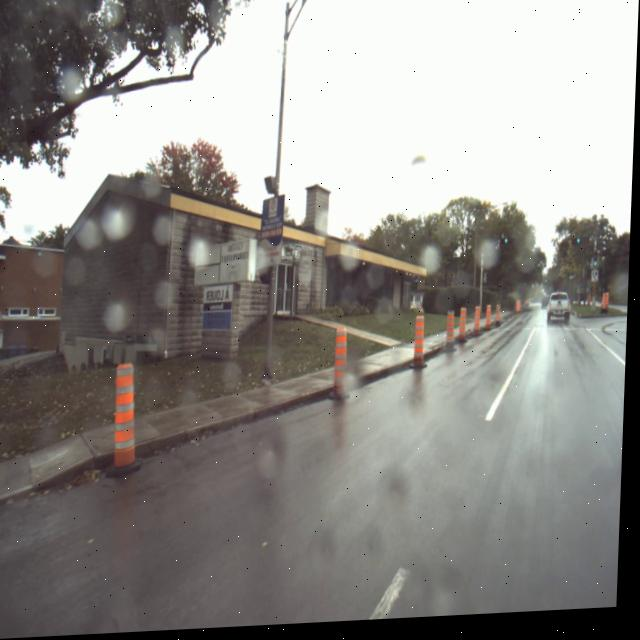car: (549, 298, 573, 331)
trafficLight-Green: (505, 242, 511, 250), (595, 266, 600, 275), (579, 244, 583, 250)
